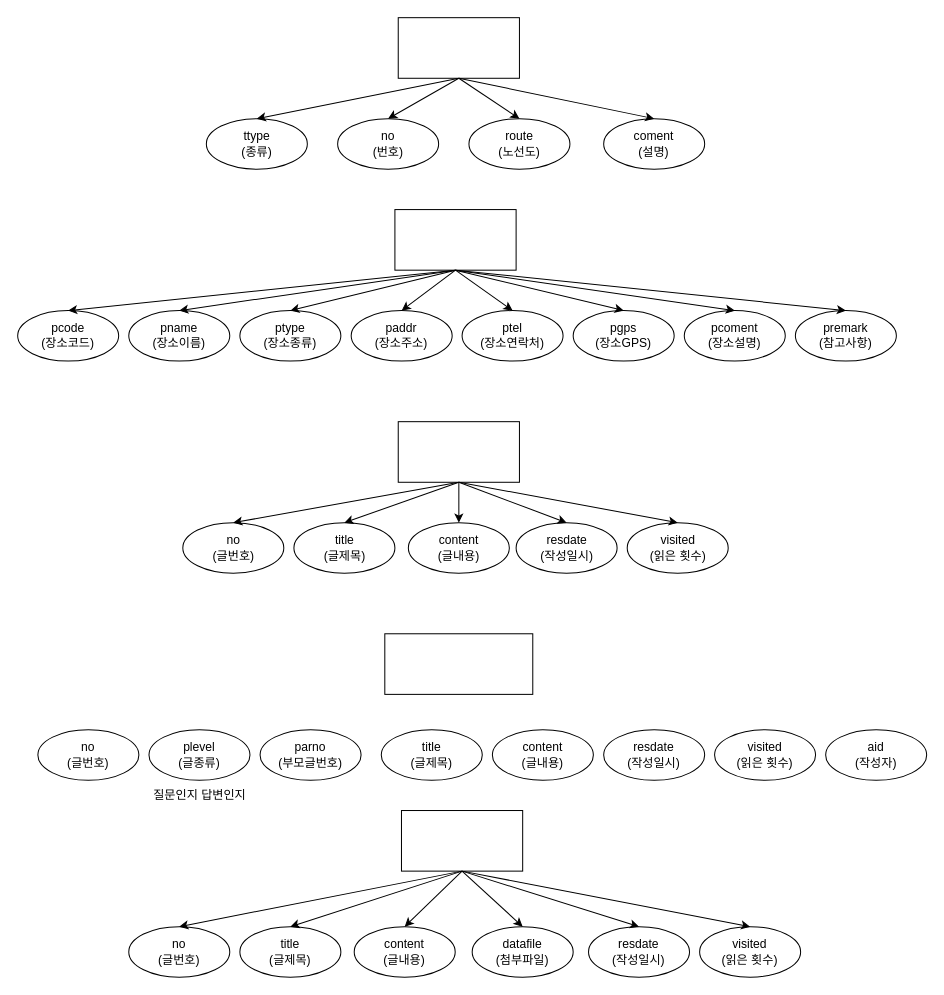
Some shapes in this 944 by 995 pixel diagram are drawn without their labels. The centre of each missing label's shape, as x and y in pixels:
"data (자료실)" goes at (x=461, y=840).
"guide (안내사항)" goes at (x=455, y=239).
"notice (공지사항)" goes at (x=458, y=451).
"qna (묻고답하기)" goes at (x=458, y=663).
"traffic (교통편)" goes at (x=458, y=47).
